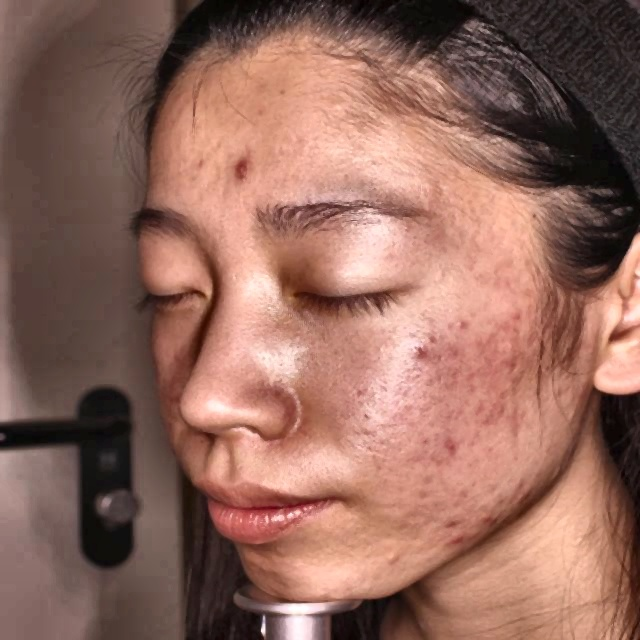pustule: (400, 336, 436, 366), (431, 429, 470, 455), (473, 506, 514, 530), (430, 518, 456, 546), (230, 154, 252, 183), (446, 313, 481, 329)
